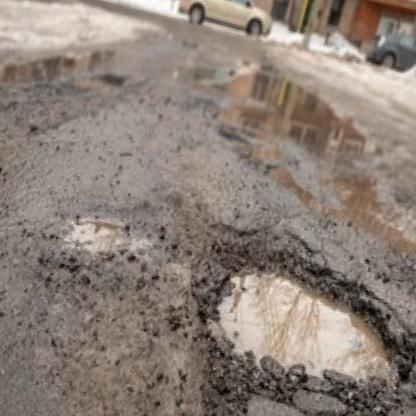pothole: (175, 227, 416, 416)
